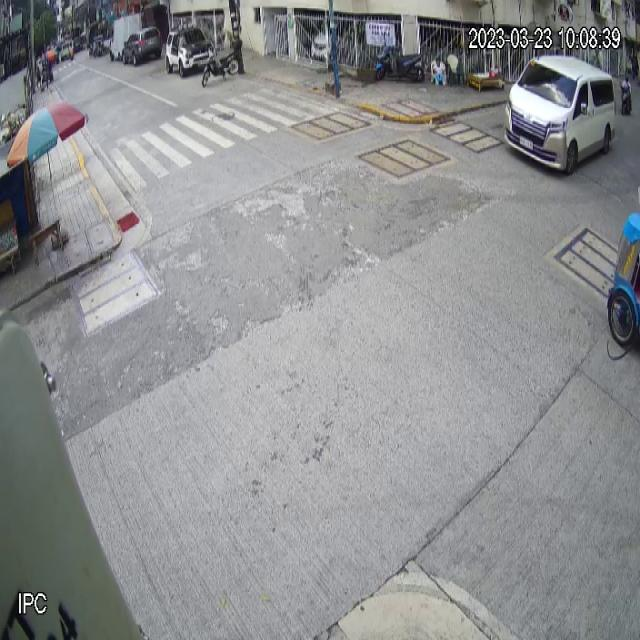Van: (502, 55, 616, 175)
